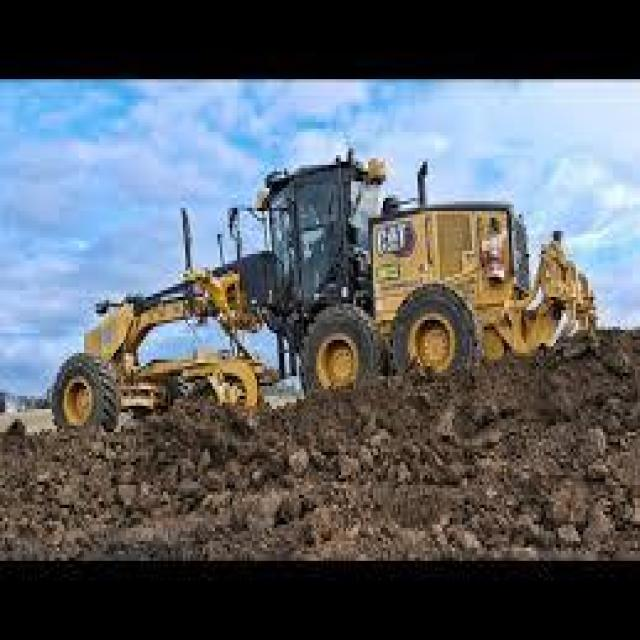buldozerpayloadergrader: (32, 136, 598, 468)
